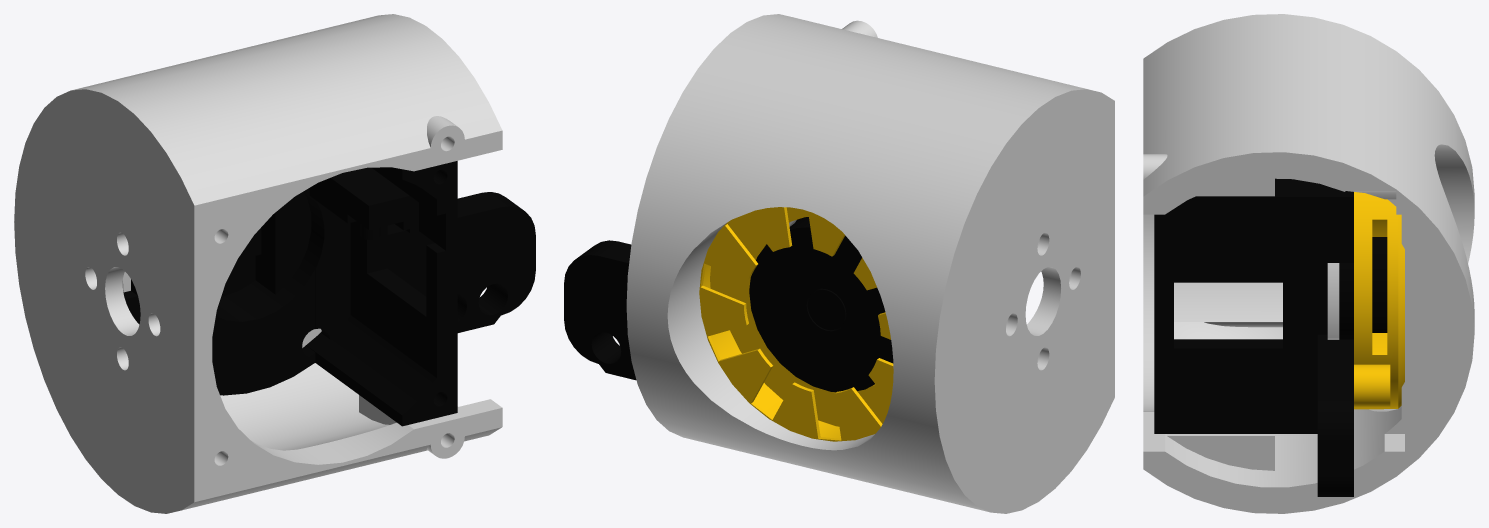
File: Eye.glb
3 views of the same model, side by side, from view 1: azimuth 30°, elevation 25°; view 2: azimuth 150°, elevation 25°; view 3: azimuth 270°, elevation 25° (orthographic). The views are drawn at different scales.
Size of the model in its own units: 0.0637 by 0.0549 by 0.0456.
